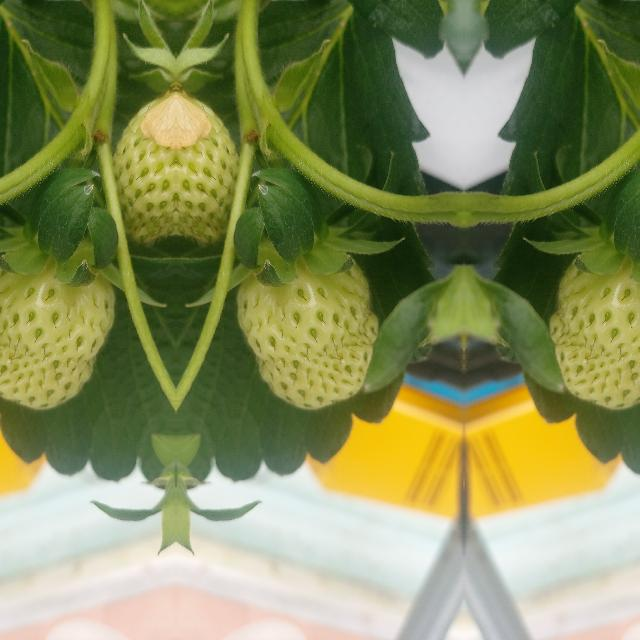Health_25: (236, 257, 376, 409), (0, 257, 114, 409), (549, 257, 640, 409)
